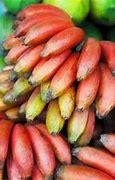banana: (0, 4, 115, 132), (0, 99, 115, 169)
